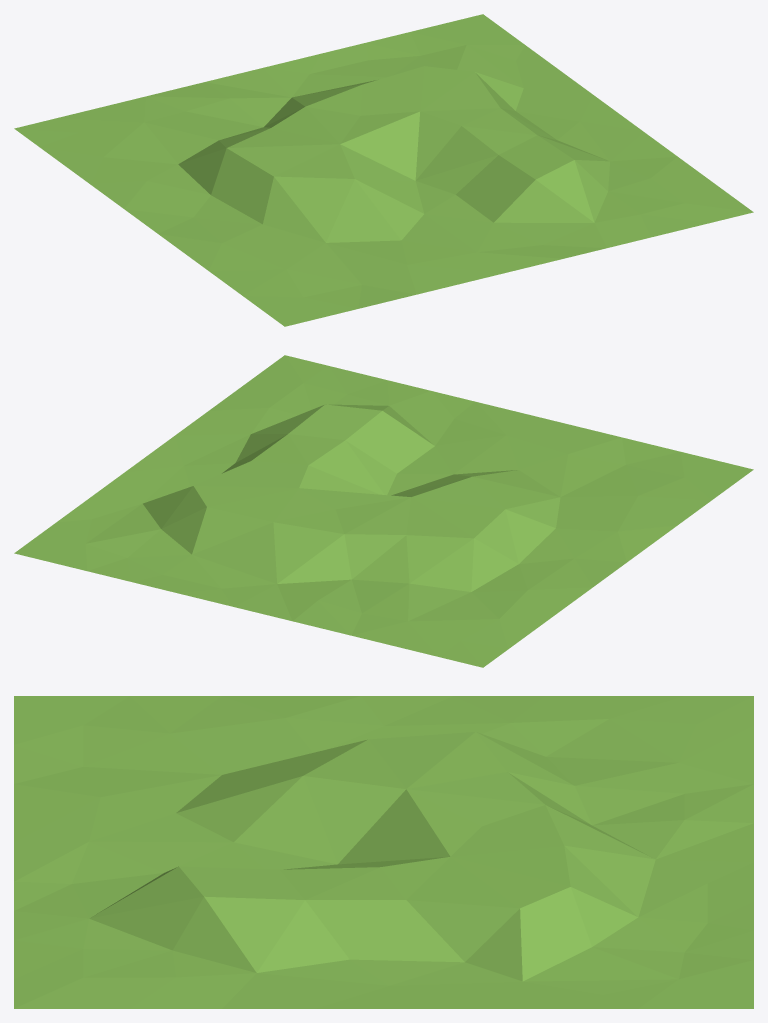
The model's file is MT_Terrain_S_c_12.fbx.
The picture shows the model from 3 angles, top to bottom: view 1: azimuth 30°, elevation 25°; view 2: azimuth 150°, elevation 25°; view 3: azimuth 270°, elevation 25°; orthographic projection. The views are drawn at different scales.
Parts seen in each view (by area): view 1: MT_Terrain_S_c_12; view 2: MT_Terrain_S_c_12; view 3: MT_Terrain_S_c_12.
Boxes of the visible parts, left/top/right/bottom form: MT_Terrain_S_c_12: left=14, top=14, right=753, bottom=326; MT_Terrain_S_c_12: left=14, top=355, right=753, bottom=667; MT_Terrain_S_c_12: left=14, top=696, right=753, bottom=1008.
Size of the model in its own units: 2500 by 156 by 2500.
